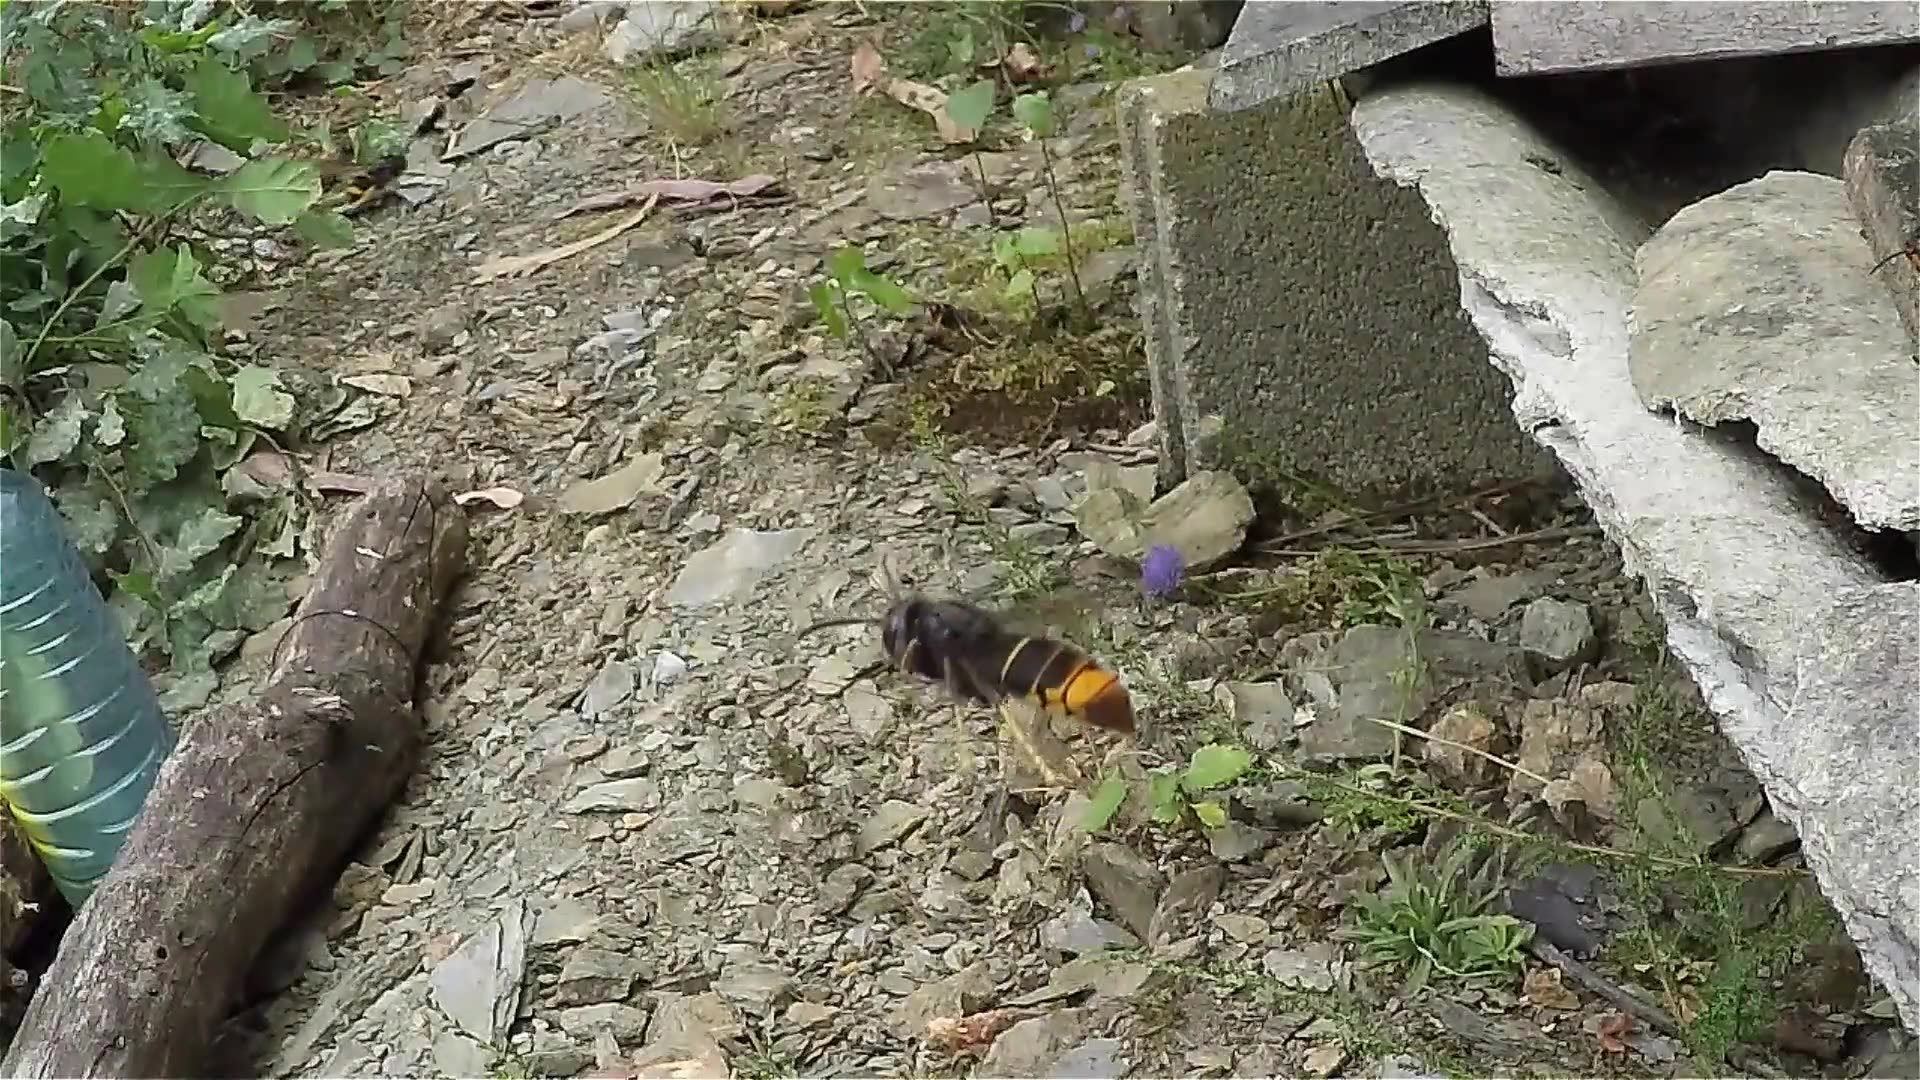hornet: (872, 579, 1162, 758), (323, 146, 413, 203), (916, 291, 1001, 344)
